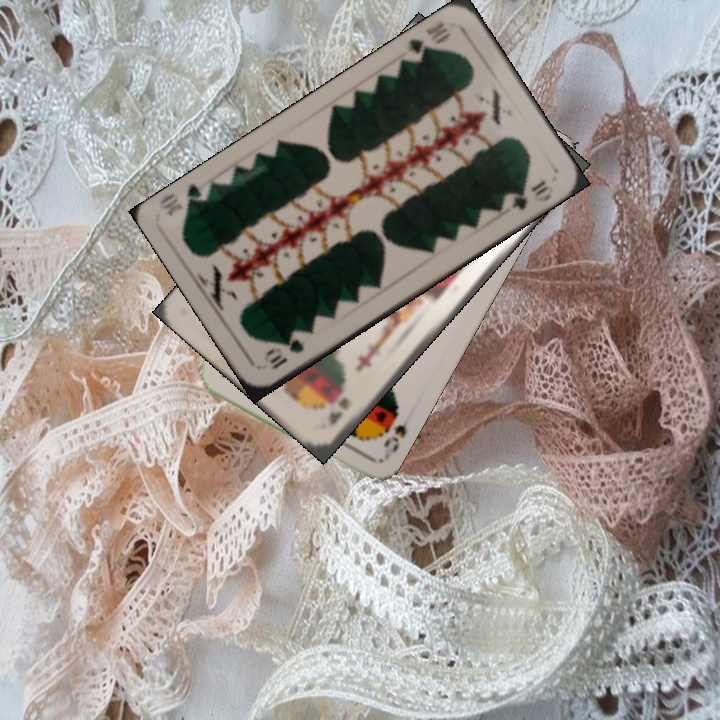G10: (404, 17, 454, 65), (260, 334, 307, 373)
SK: (325, 393, 353, 429)
SO: (377, 403, 415, 463)
